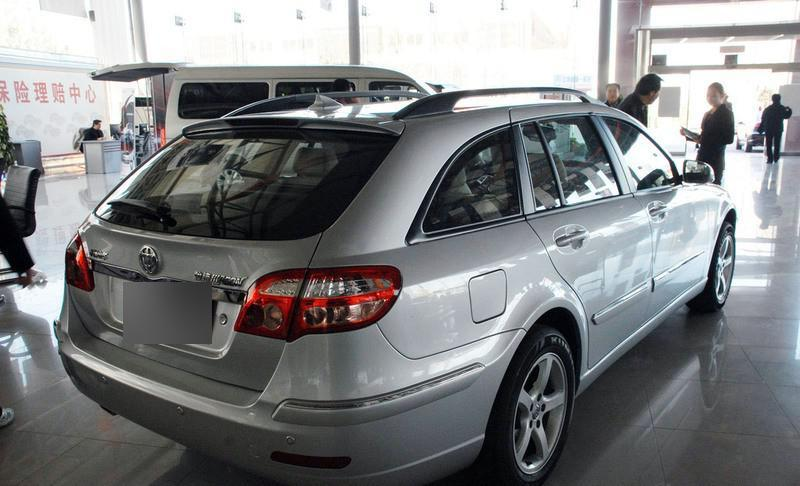Wagon: (52, 85, 738, 486)
